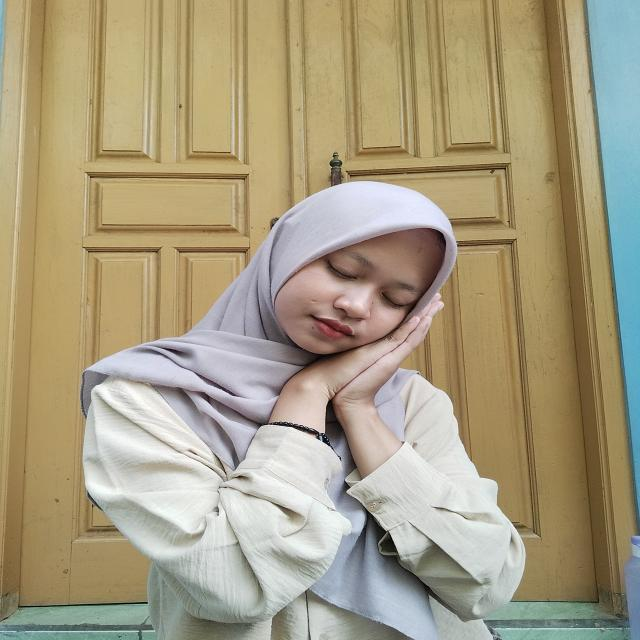tidur: (258, 296, 452, 475)
